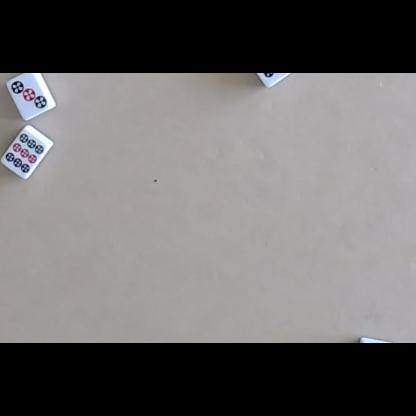3p: (10, 80, 48, 110)
4p: (253, 73, 285, 77)
9p: (5, 134, 45, 174)
